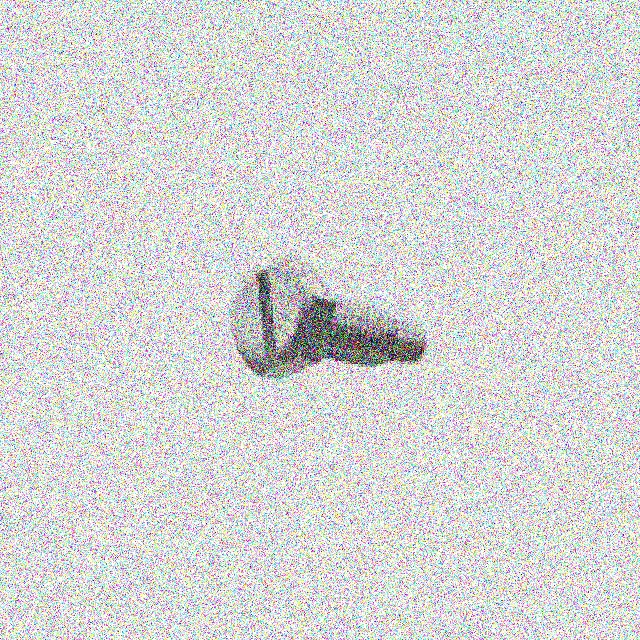duz: (227, 257, 337, 382)
